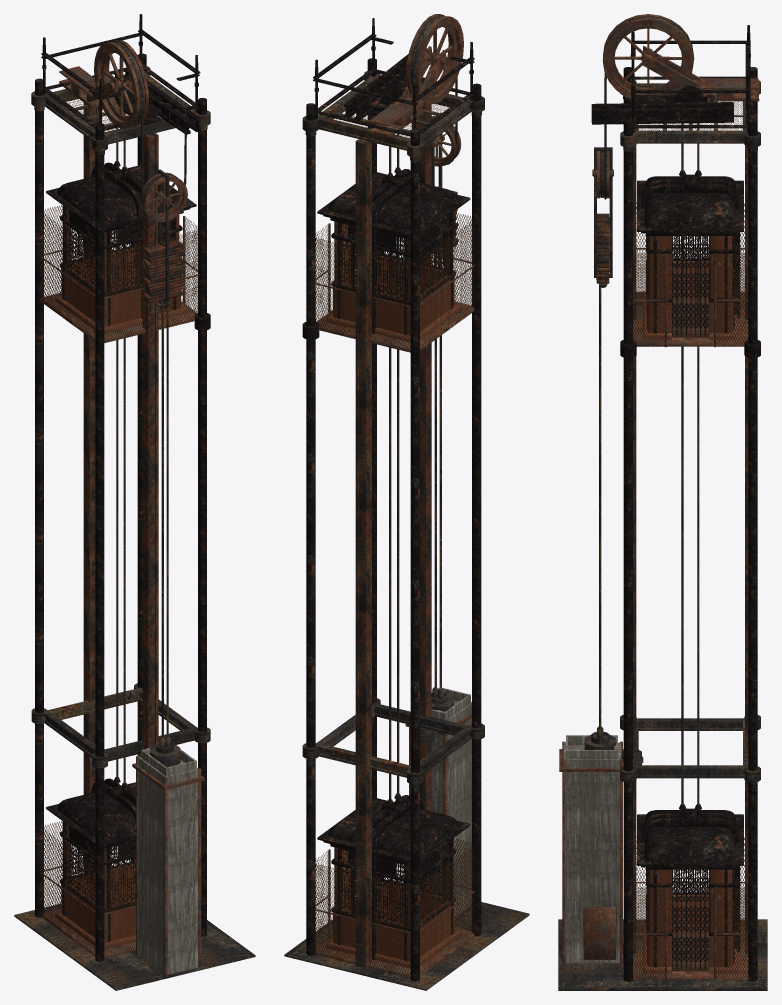
File: Greenhouse_Elevator01.fbx
3 views of the same model, side by side, from view 1: azimuth 30°, elevation 25°; view 2: azimuth 150°, elevation 25°; view 3: azimuth 270°, elevation 25° (orthographic). The views are drawn at different scales.
Visible parts, largest first — view 1: Greenhouse_Elevator01; view 2: Greenhouse_Elevator01; view 3: Greenhouse_Elevator01.
Part boxes in pixels (bbox=[...]): Greenhouse_Elevator01: bbox=[14, 14, 255, 990]; Greenhouse_Elevator01: bbox=[284, 14, 529, 990]; Greenhouse_Elevator01: bbox=[558, 14, 767, 990].
Bounding box in the file's own units: 624 × 3853 × 787.
